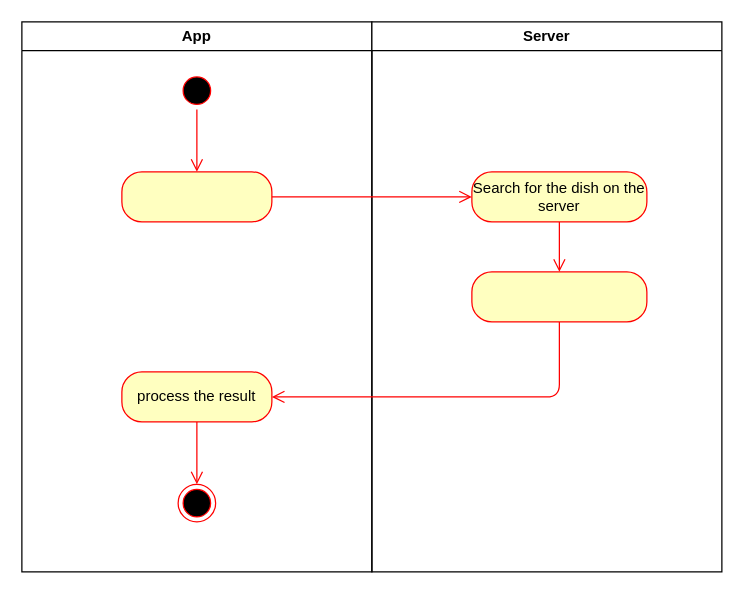
Some shapes in this 744 by 594 pixel diagram are drawn without their labels. The shapes that lost their labels are listed below. From the top down, each one's centre as x and y in pixels, then its label:
At (196,196): "Get Ratings from the Server".
At (559,296): "return all Ratings of the dish".
